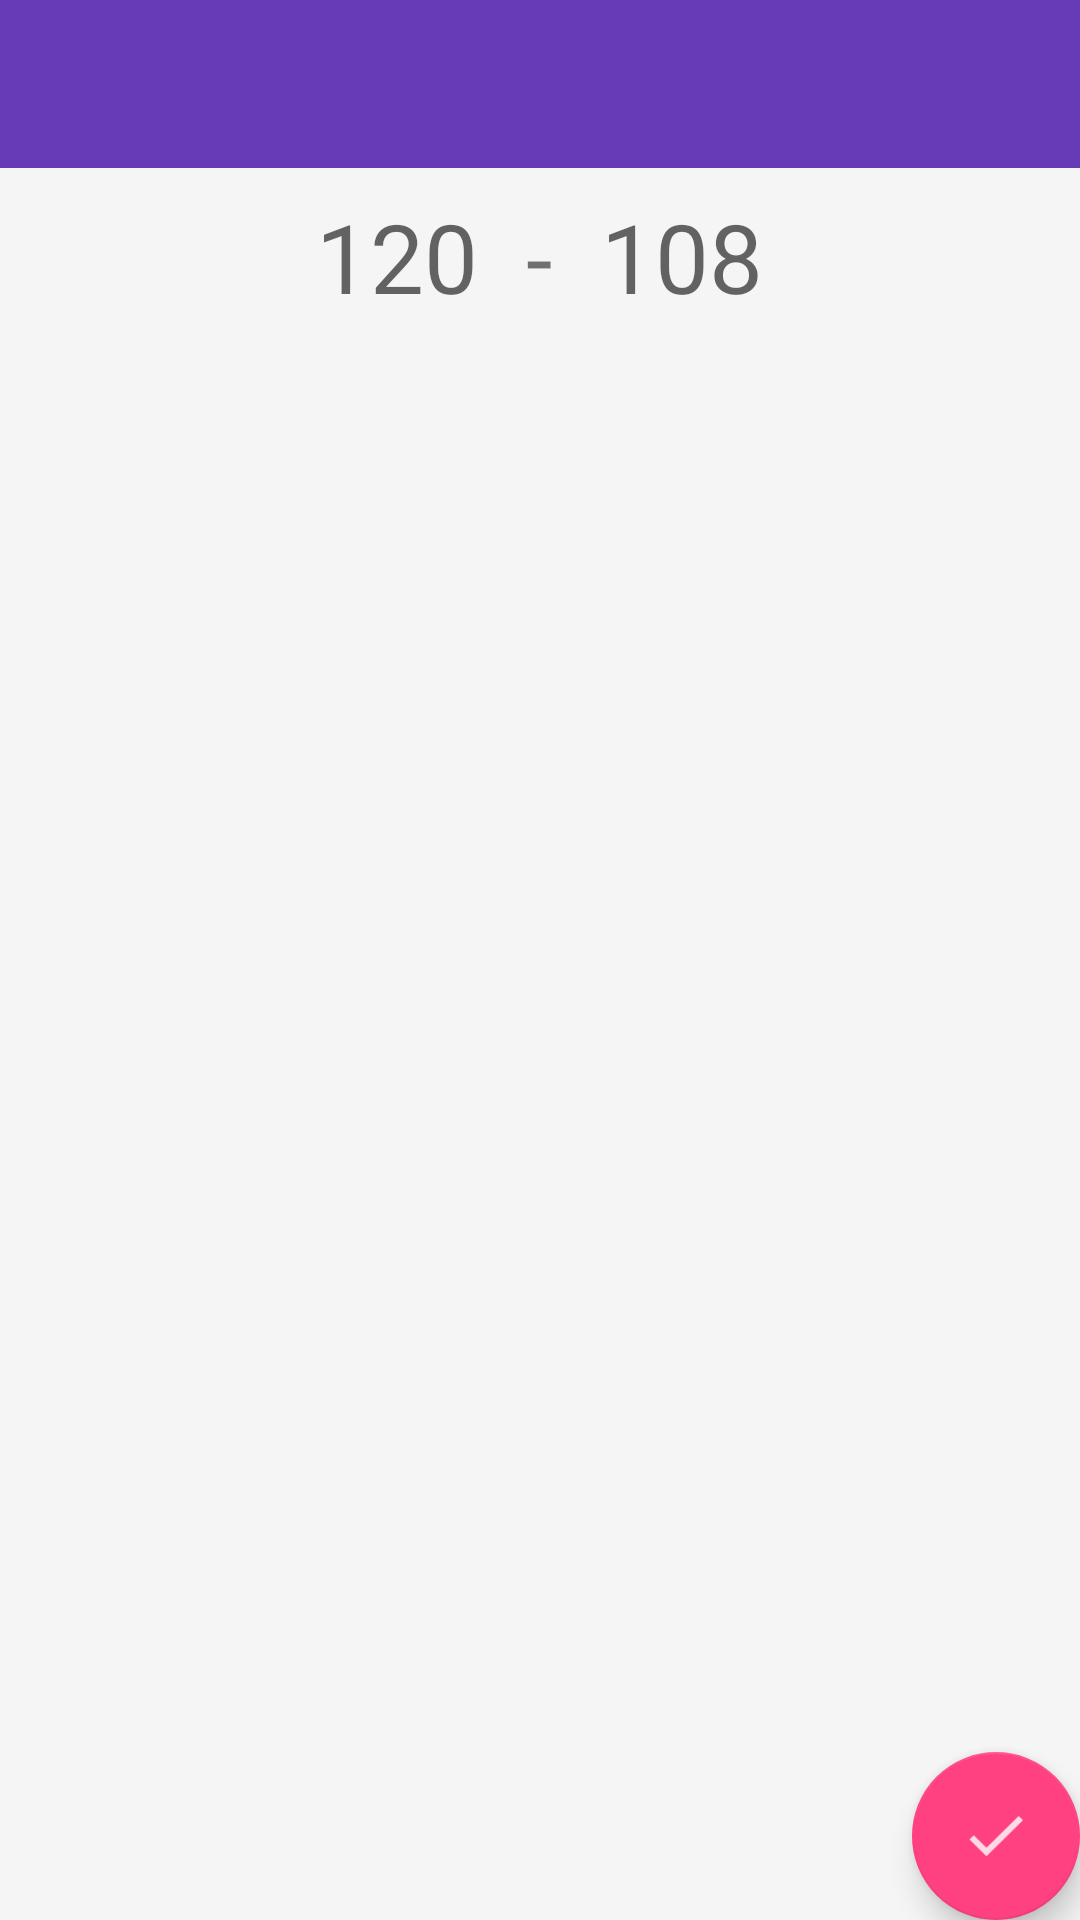

Where icons sit on this 1080px×1920px app screen, as (x1, y1, x2, y2):
done: (912, 1752, 1080, 1920)
